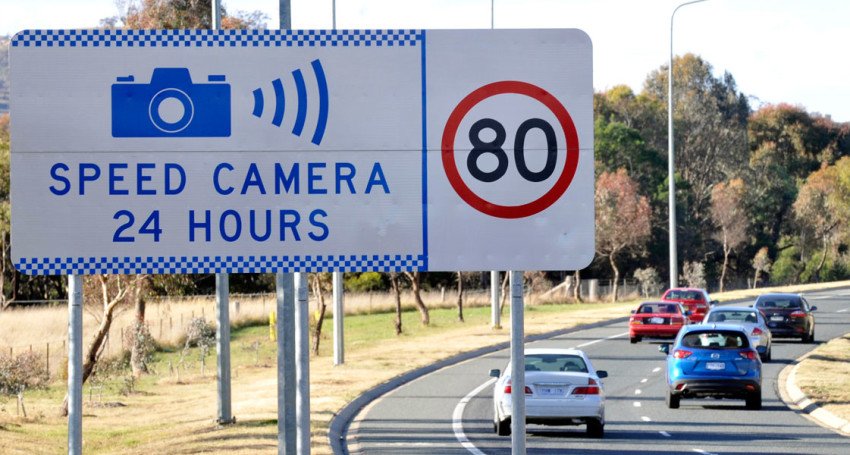Speed_limit_80km: (439, 80, 579, 220)
